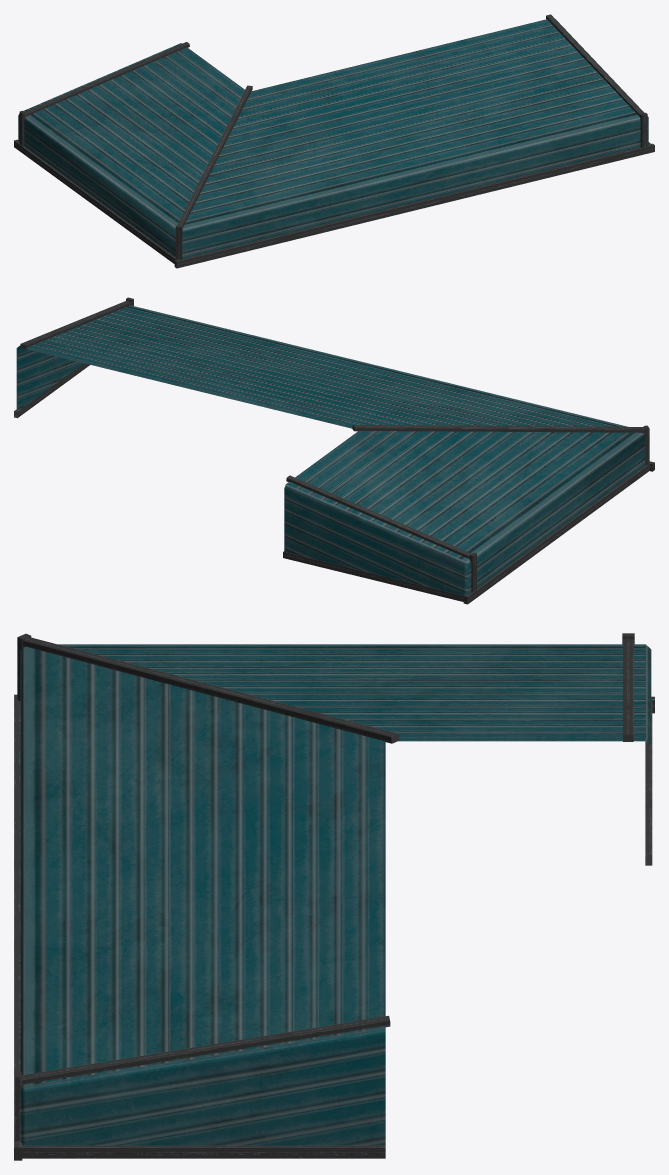
File: CP_Canopy_05.fbx
3 renders of one model, top to bottom at view 1: azimuth 30°, elevation 25°; view 2: azimuth 150°, elevation 25°; view 3: azimuth 270°, elevation 25°, orthographic. The views are drawn at different scales.
Parts seen in each view (by area): view 1: CP_Canopy_05; view 2: CP_Canopy_05; view 3: CP_Canopy_05.
Boxes of the visible parts, left/top/right/bottom form: CP_Canopy_05: left=14, top=14, right=654, bottom=268; CP_Canopy_05: left=14, top=297, right=654, bottom=604; CP_Canopy_05: left=14, top=633, right=654, bottom=1160.
Size of the model in its own units: 758 by 105 by 454.
